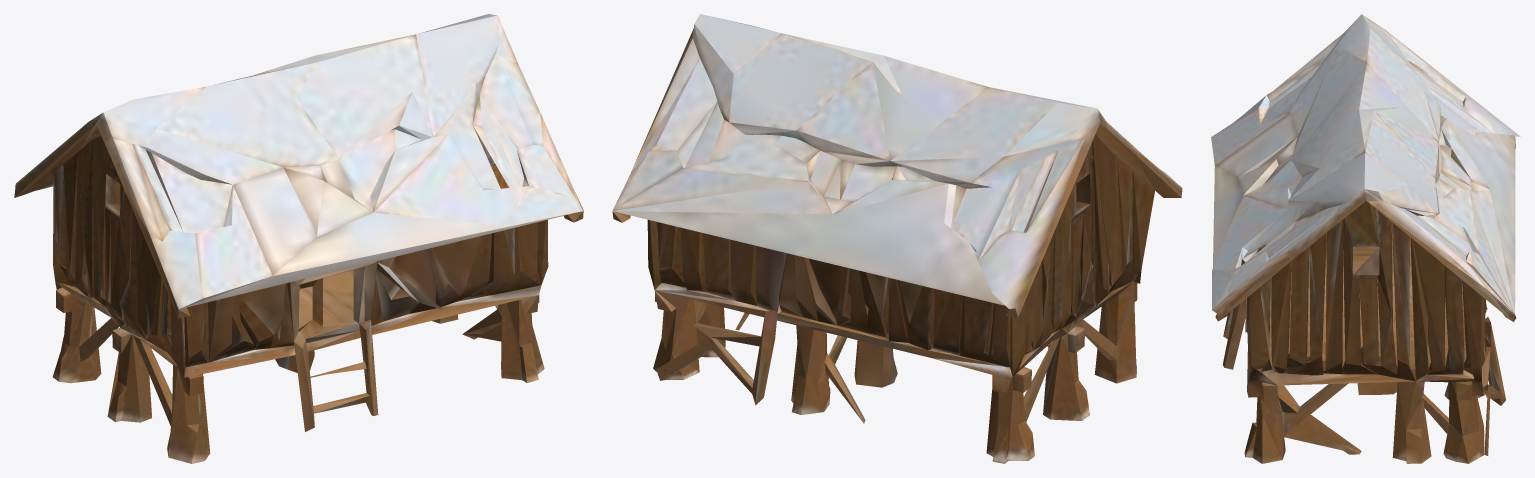
File: granary.glb
3 views of the same model, side by side, from view 1: azimuth 30°, elevation 25°; view 2: azimuth 150°, elevation 25°; view 3: azimuth 270°, elevation 25° (orthographic). The views are drawn at different scales.
Bounding box in the file's own units: 1.9 × 1.4 × 1.4.
1 material, 1 textured.
